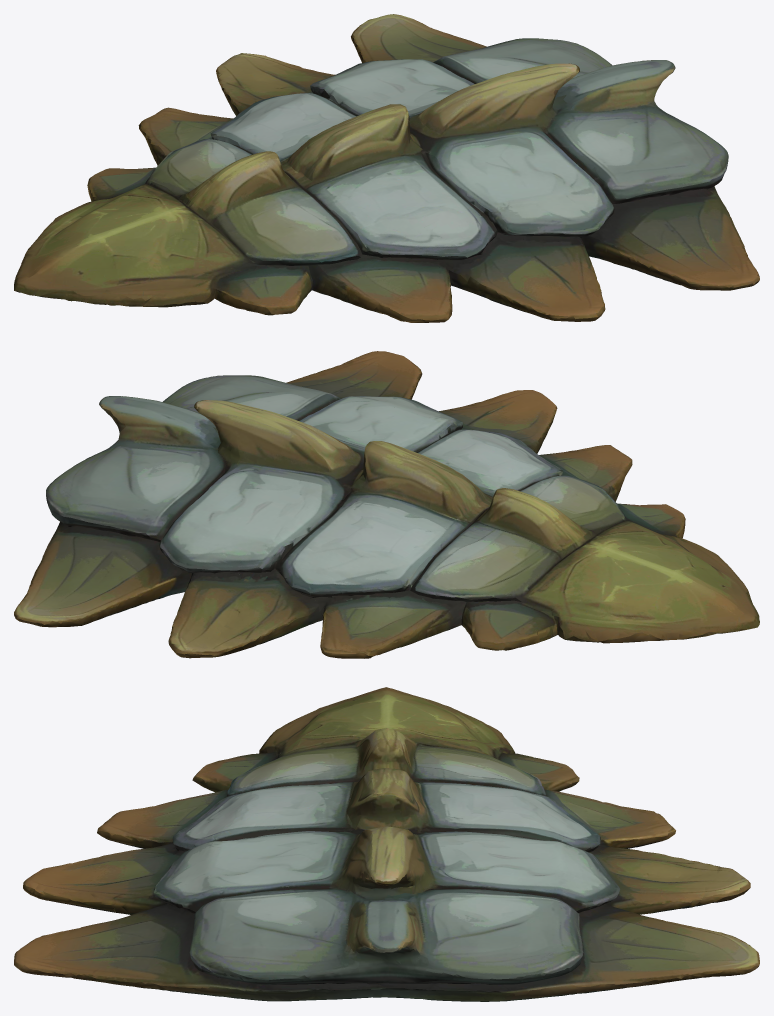
The model's file is item_frost_wyrm_scale.glb.
3 views of the same model, one above another, from view 1: azimuth 30°, elevation 25°; view 2: azimuth 150°, elevation 25°; view 3: azimuth 270°, elevation 25° (orthographic). The views are drawn at different scales.
Visible parts, largest first — view 1: item_frost_wyrm_scale; view 2: item_frost_wyrm_scale; view 3: item_frost_wyrm_scale.
Part boxes in pixels (<box>): item_frost_wyrm_scale: <box>14,14,759,322</box>; item_frost_wyrm_scale: <box>14,351,759,658</box>; item_frost_wyrm_scale: <box>14,687,759,1001</box>.
Bounding box in the file's own units: 0.2 × 0.0273 × 0.1924.
Materials: 1 (1 with a texture image).
